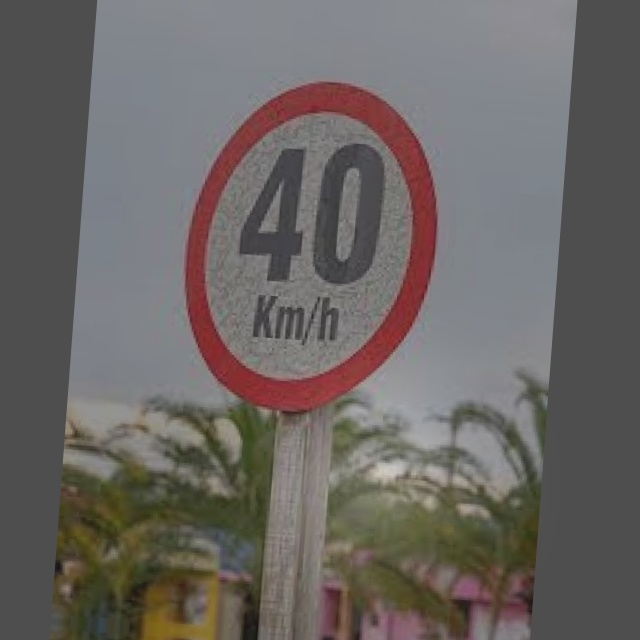Speed_Limit_40: (181, 72, 448, 407)
